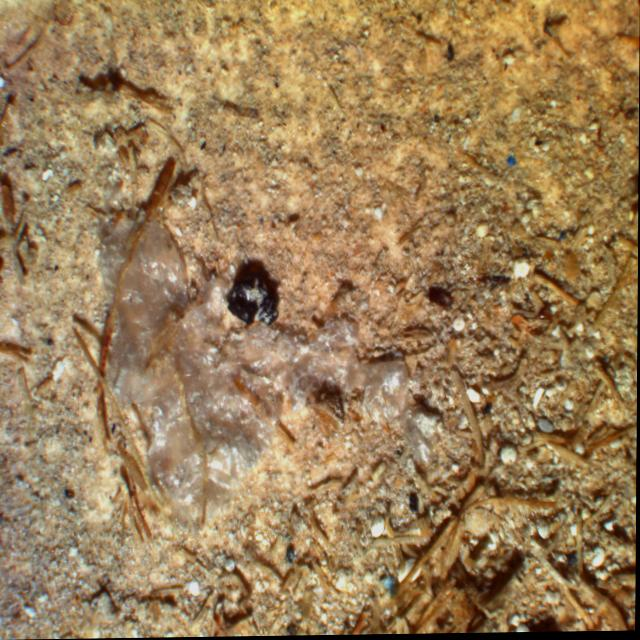microplastic: (61, 143, 448, 548)
